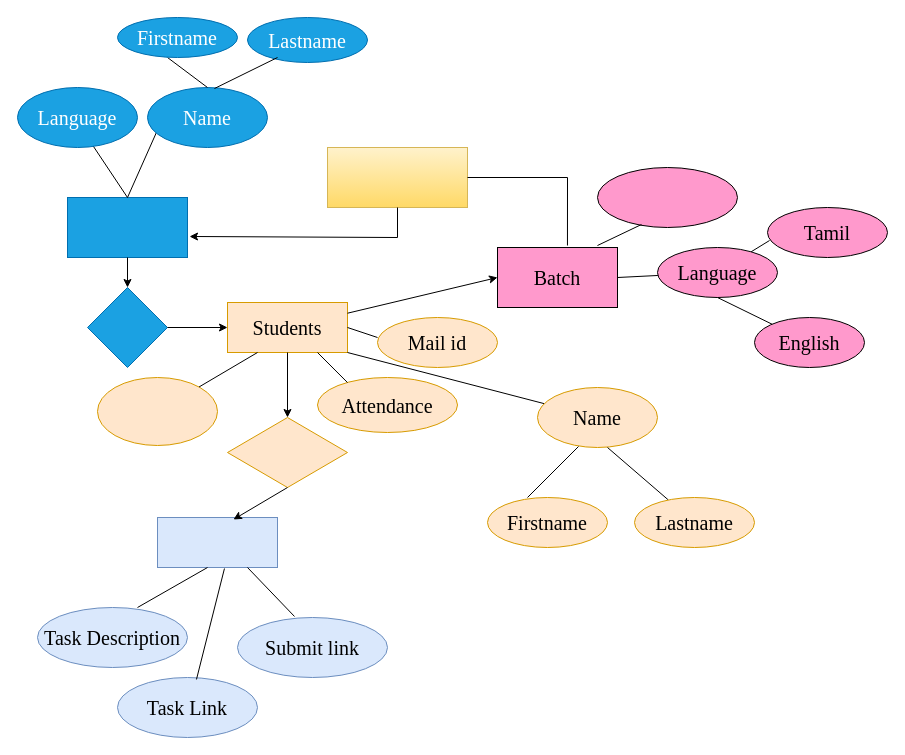
This 905x755 diagram has some shape labels left out. The centre of each missing label's shape, as x and y in pixels:
"Batch no" belongs at point 667,197.
"Completes" belongs at point 287,452.
"Mentor" belongs at point 127,227.
"Phone no" belongs at point 157,411.
"Task" belongs at point 217,542.
"Teaches" belongs at point 127,327.
"Zen class" belongs at point 397,177.
